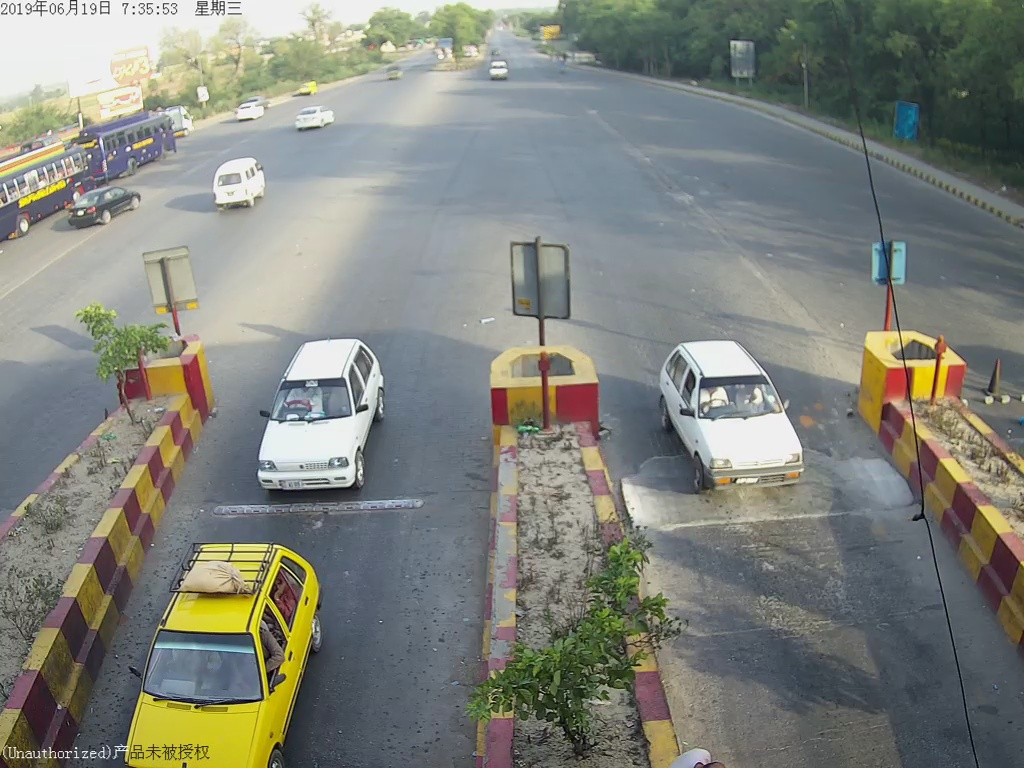Cat-1: (653, 339, 812, 503), (248, 337, 397, 502)
